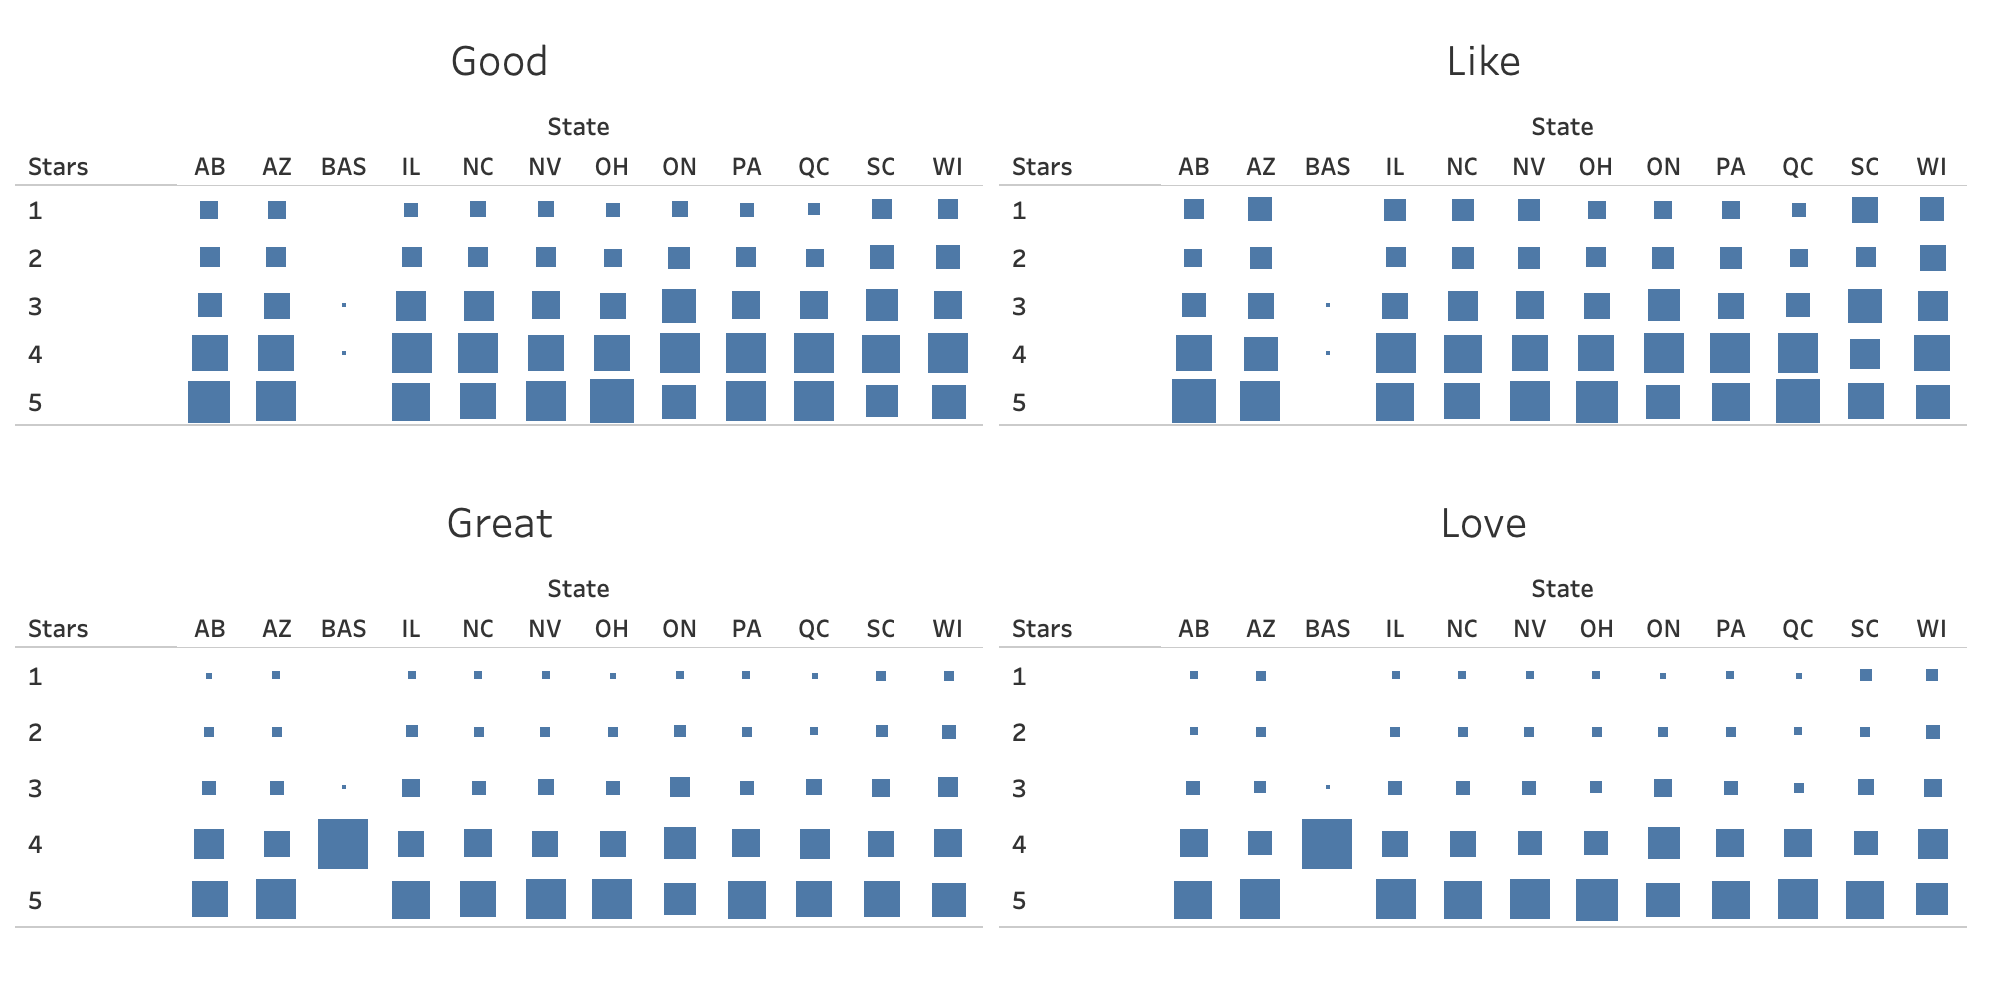

Layout of this report page (visuals, bound fields, positions):
{"tool":"tableau","page":{"name":"Positive","canvas":[1000,800],"ordinal":1},"visuals":[{"type":"worksheet","title":"Good","mark":"Automatic","rows":["stars"],"cols":["state"],"box":[8,8,492,231]},{"type":"worksheet","title":"Like","mark":"Automatic","rows":["stars"],"cols":["state"],"box":[500,8,492,231]},{"type":"worksheet","title":"Great","mark":"Automatic","rows":["stars"],"cols":["state"],"box":[8,239,492,553]},{"type":"worksheet","title":"Love","mark":"Automatic","rows":["stars"],"cols":["state"],"box":[500,239,492,553]}]}

Visuals, with their boxes on the page's 1000x800 design canvas (x1, y1, x2, y2). These are canvas units, not pixel positions in the 1992x990 screenshot, which may show the page scaled, cropped or inside an application window:
"Good" worksheet: (left=8, top=8, right=500, bottom=239)
"Like" worksheet: (left=500, top=8, right=992, bottom=239)
"Great" worksheet: (left=8, top=239, right=500, bottom=792)
"Love" worksheet: (left=500, top=239, right=992, bottom=792)
